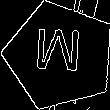M_S: (34, 29, 85, 83)
